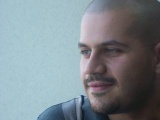male: (74, 1, 160, 113)
